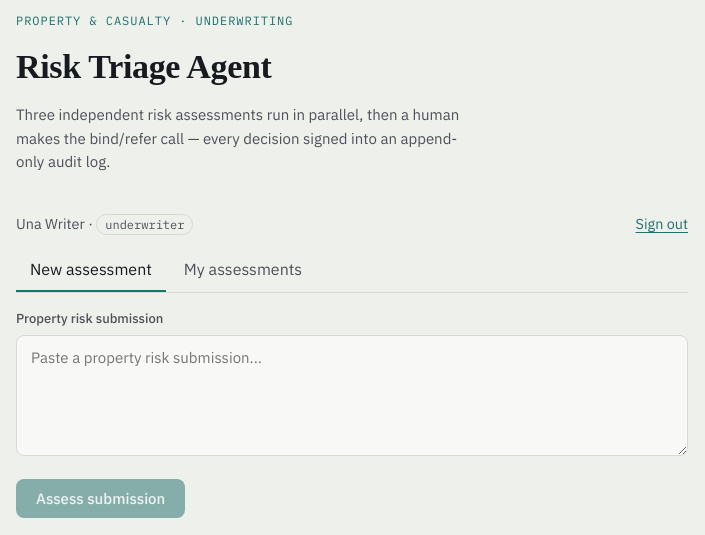
Test: App › drops to the login screen when the session expires mid-use
Click the button "My assessments". click: (243, 271)
box: 170,249 -> 316,292
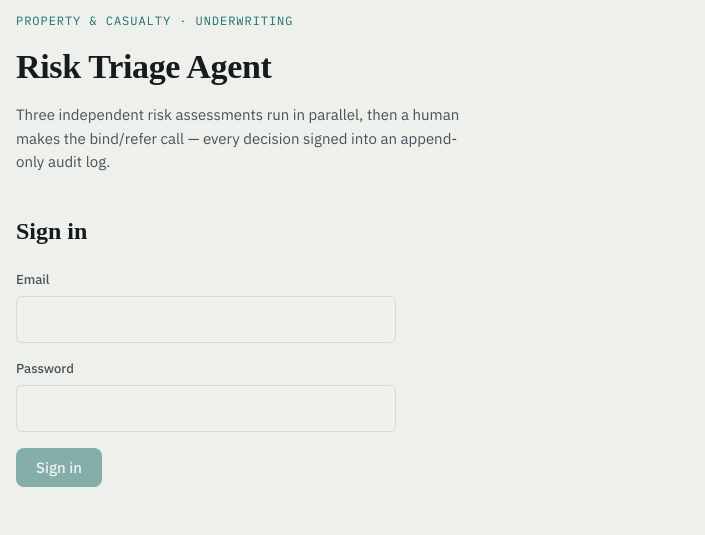
Result: the form "Sign in" is shown at 16,213 -> 396,487
